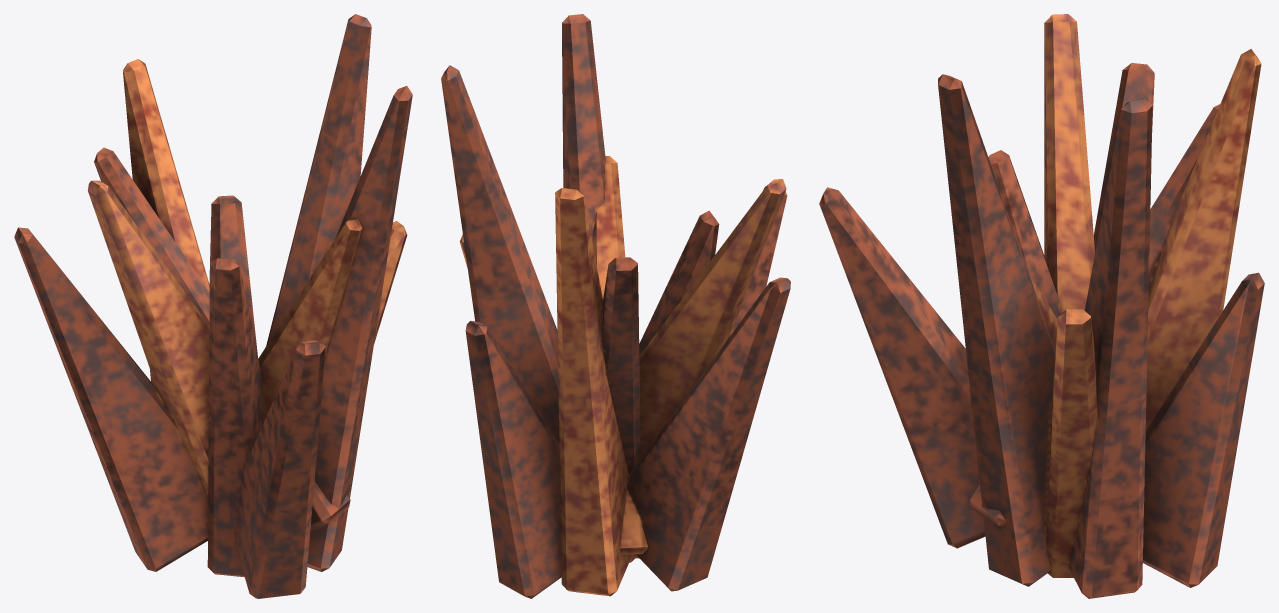
Rendered from Volcan_Touffe.fbx.
3 views of the same model, side by side, from view 1: azimuth 30°, elevation 25°; view 2: azimuth 150°, elevation 25°; view 3: azimuth 270°, elevation 25° (orthographic). The views are drawn at different scales.
Visible parts, largest first — view 1: Volcan_Touffe; view 2: Volcan_Touffe; view 3: Volcan_Touffe.
Boxes of the visible parts, box(x1,y1,x2,y2) form: Volcan_Touffe: box(14, 14, 412, 598); Volcan_Touffe: box(441, 14, 790, 598); Volcan_Touffe: box(819, 14, 1264, 598).
Bounding box in the file's own units: 211 × 274 × 208.
Materials: 1 (1 with a texture image).
